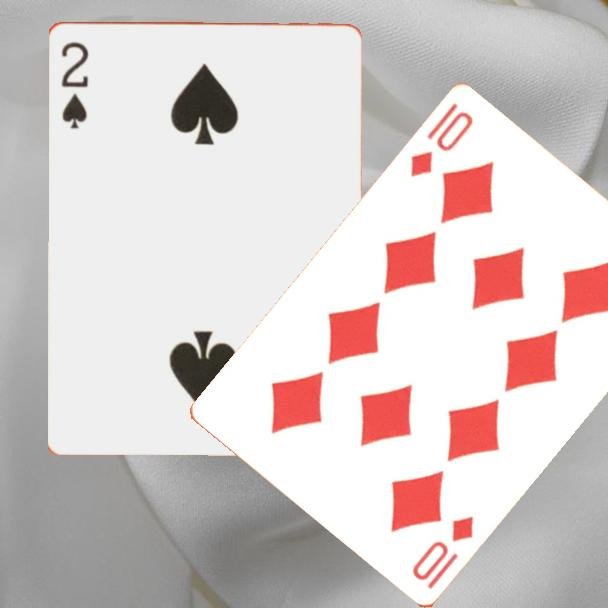d10: (406, 99, 476, 181), (408, 513, 477, 593)
s02: (57, 37, 91, 131)
